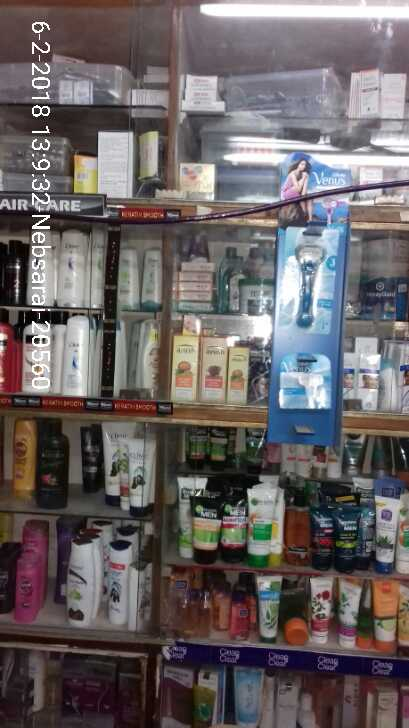venus: (279, 227, 334, 329), (280, 354, 332, 412)
